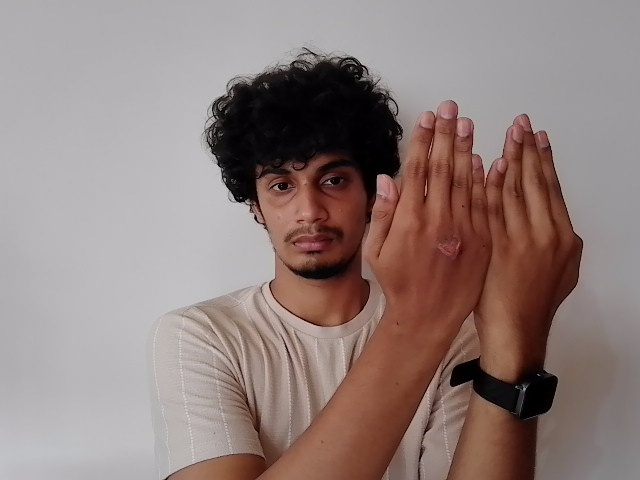school: (367, 96, 585, 339)
